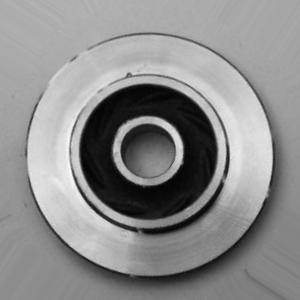defect: (107, 47, 174, 92)
